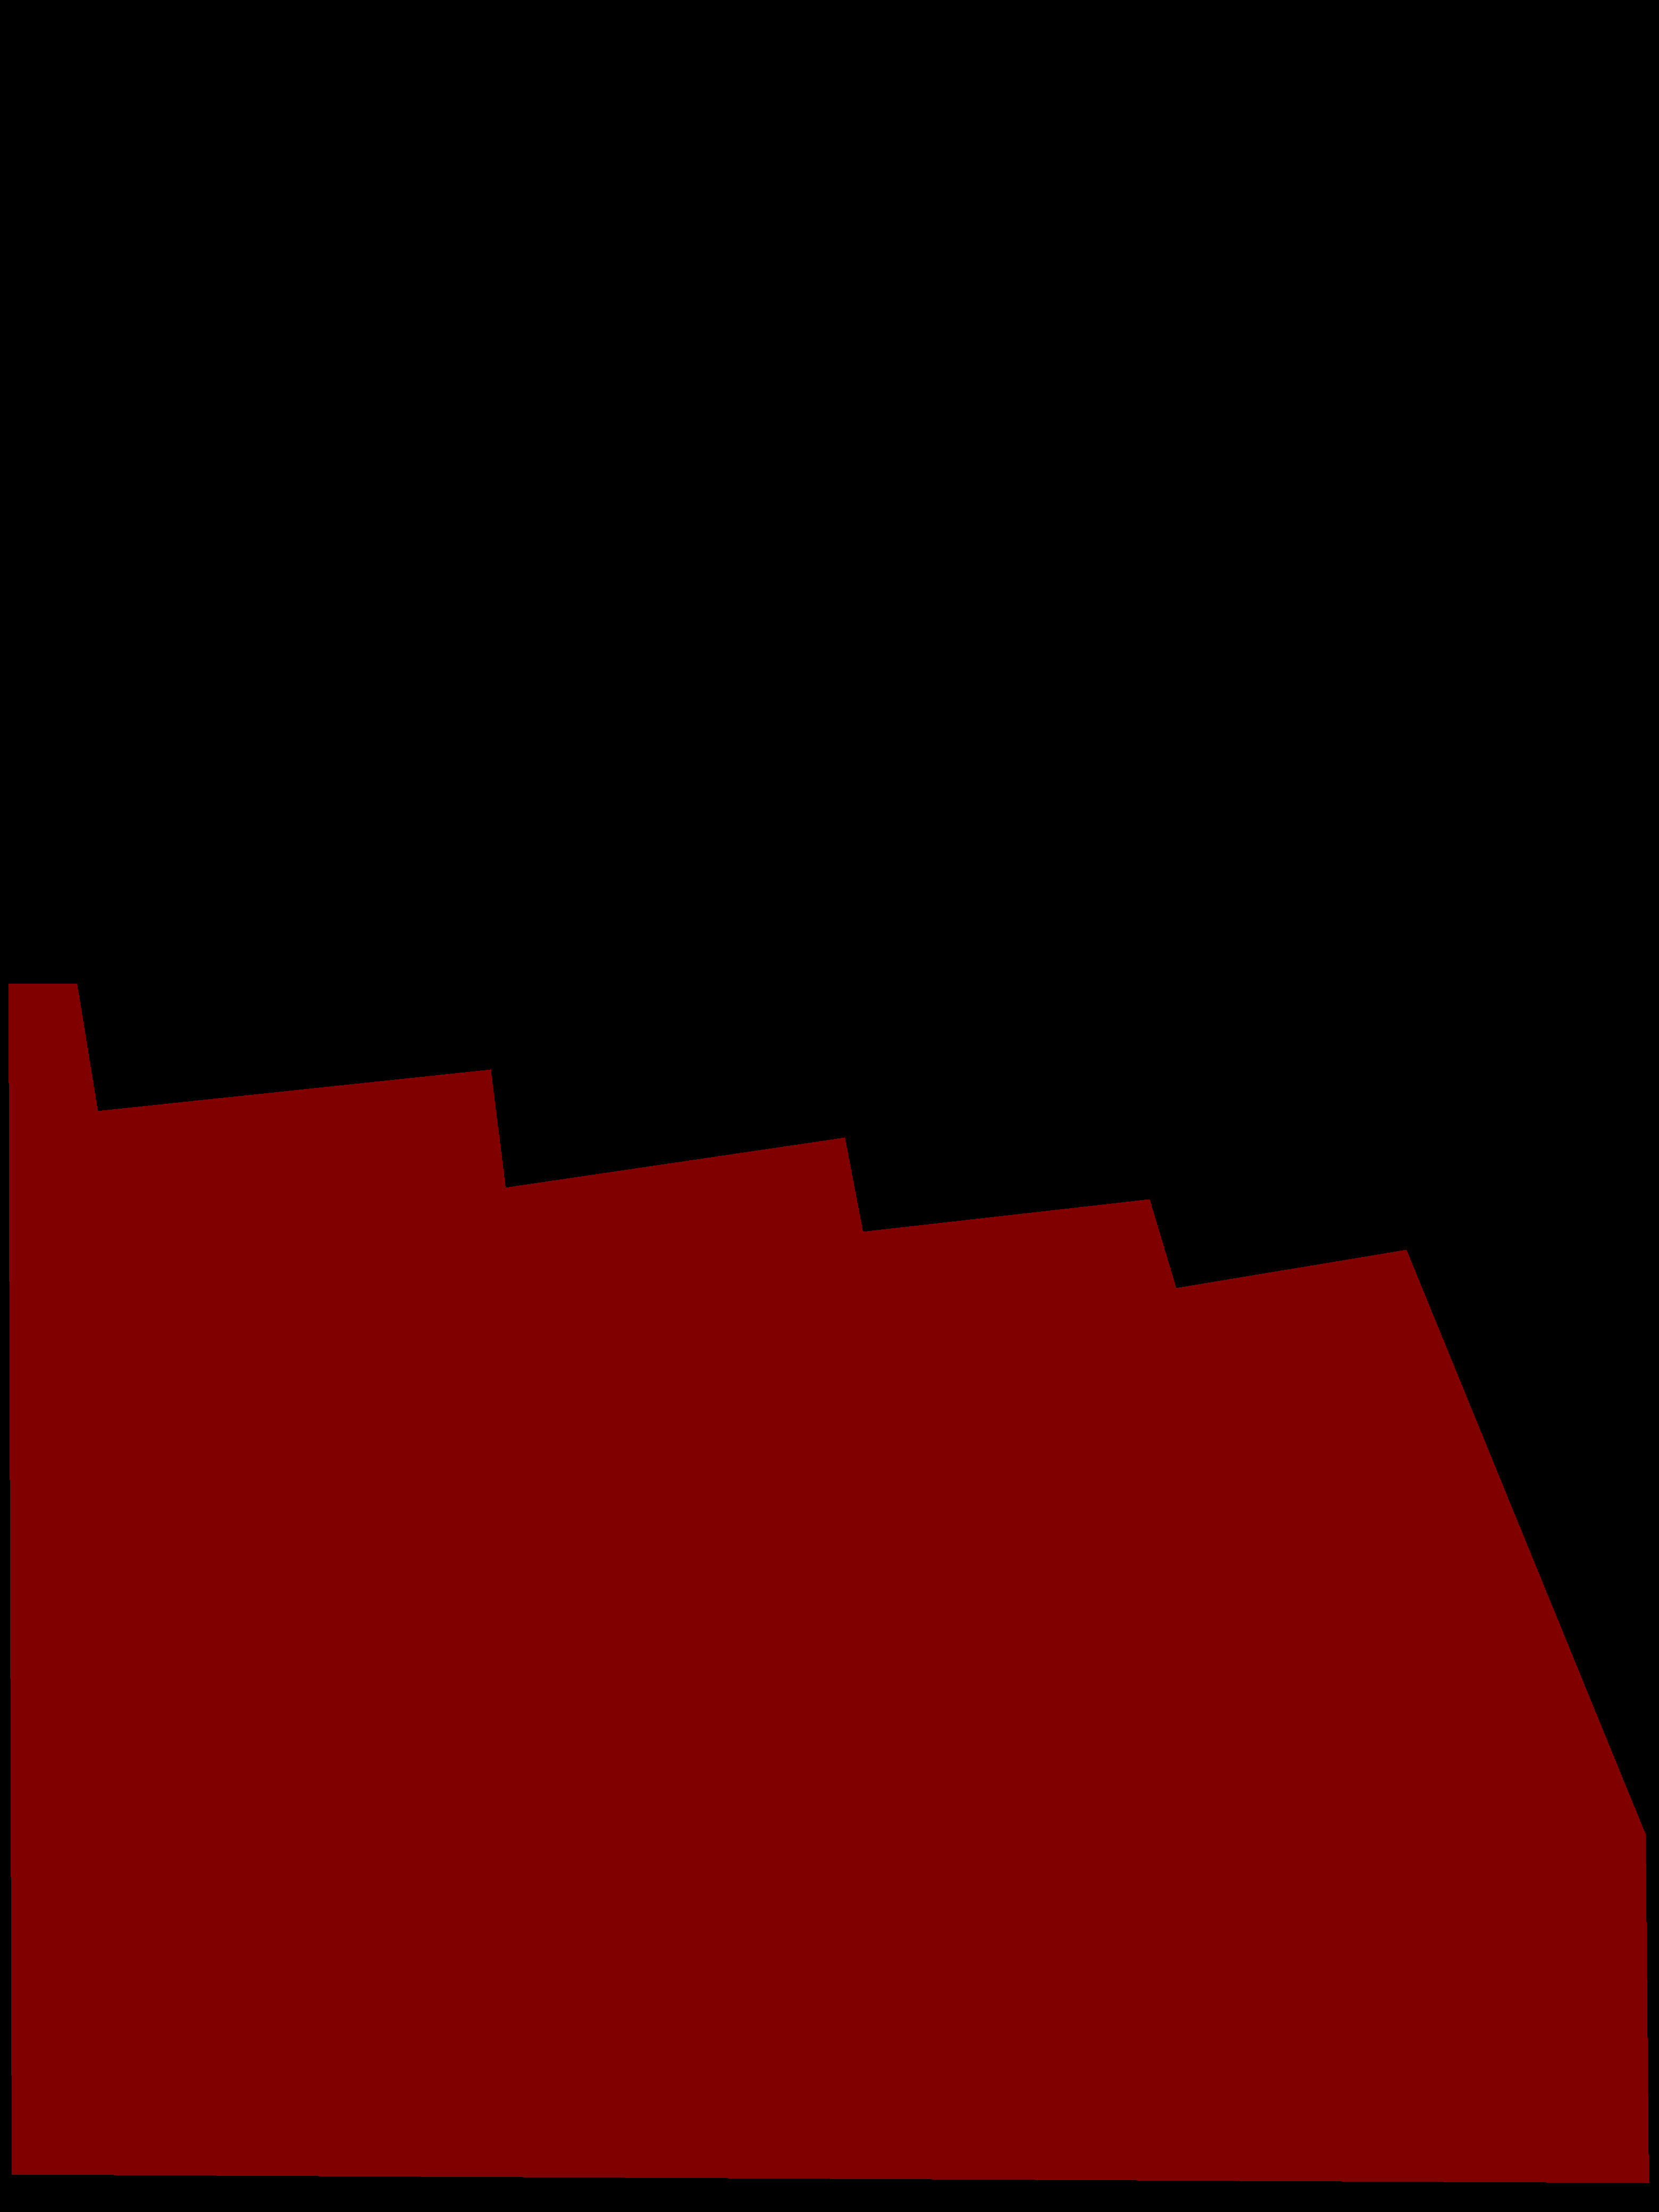stair: (9, 984, 1649, 2182)
